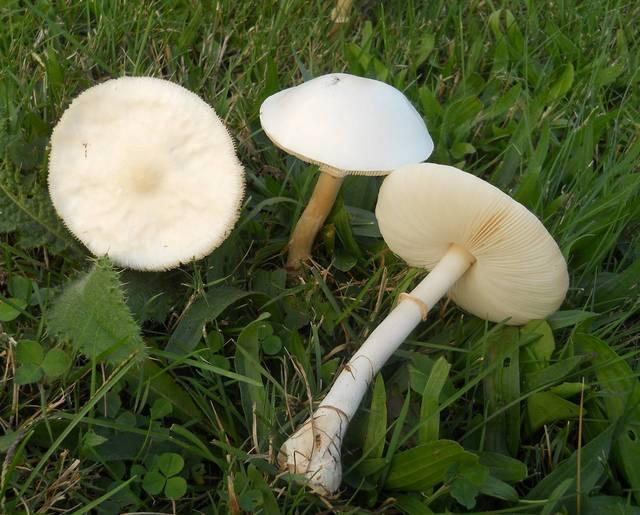poisonous_mushroom: (275, 160, 570, 497), (45, 74, 246, 272), (257, 70, 434, 280)
